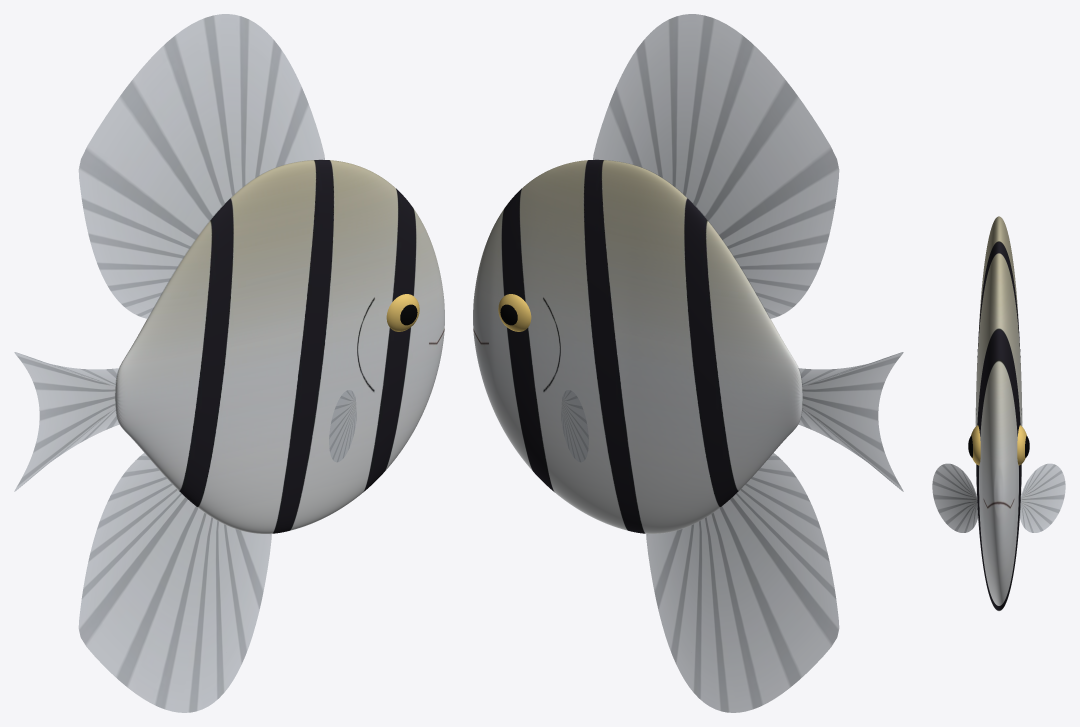
File: angel.glb
3 views of the same model, side by side, from view 1: azimuth 30°, elevation 25°; view 2: azimuth 150°, elevation 25°; view 3: azimuth 270°, elevation 25° (orthographic).
Parts seen in each view (by area): view 1: body, dorsal, anal, tail, pec-1, Sphere; view 2: body, dorsal, anal, tail, pec1, Sphere.002; view 3: body, pec-1, pec1, Sphere, Sphere.002.
Boxes of the visible parts, bbox=[...] form: body: bbox=[115, 160, 444, 533]; dorsal: bbox=[78, 14, 324, 318]; anal: bbox=[78, 453, 271, 712]; tail: bbox=[14, 352, 119, 491]; pec-1: bbox=[329, 390, 356, 462]; Sphere: bbox=[386, 294, 419, 331]; body: bbox=[473, 160, 802, 533]; dorsal: bbox=[593, 14, 839, 318]; anal: bbox=[646, 453, 839, 712]; tail: bbox=[798, 352, 903, 491]; pec1: bbox=[561, 390, 588, 462]; Sphere.002: bbox=[498, 294, 531, 331]; body: bbox=[975, 216, 1022, 611]; pec-1: bbox=[932, 463, 977, 532]; pec1: bbox=[1020, 463, 1065, 532]; Sphere: bbox=[971, 425, 980, 465]; Sphere.002: bbox=[1017, 425, 1026, 465].
Size of the model in its own units: 1.31 by 2.02 by 0.3505.
5 materials, 3 textured.
